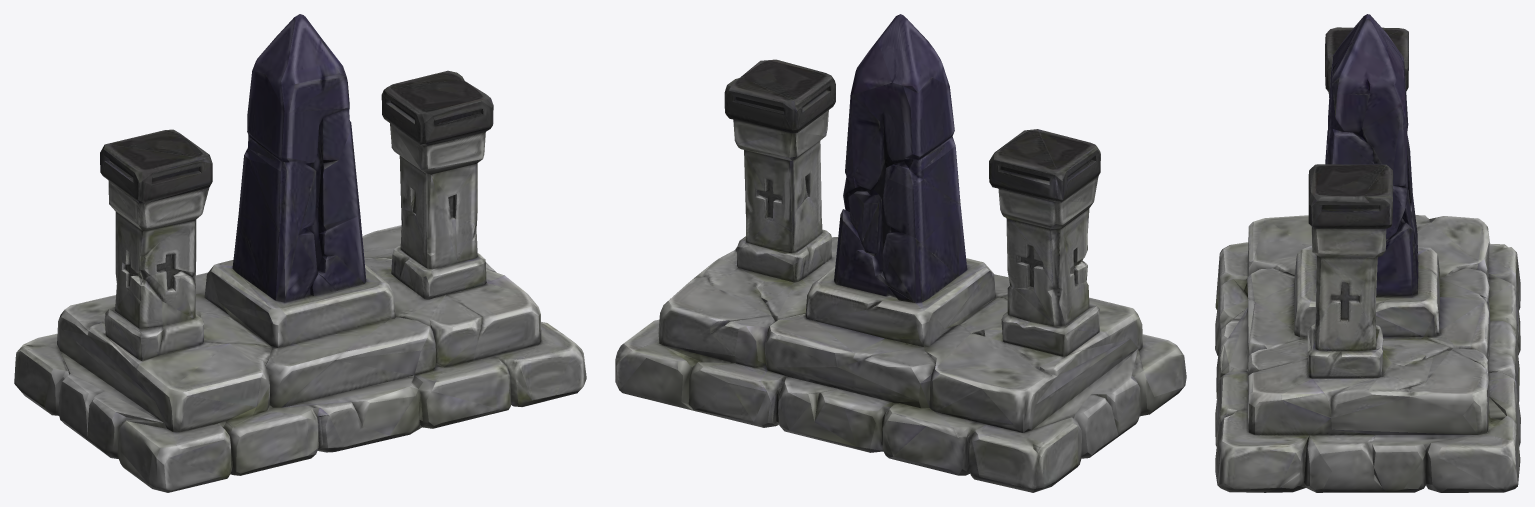
Rendered from shrine_3d.glb.
3 views of the same model, side by side, from view 1: azimuth 30°, elevation 25°; view 2: azimuth 150°, elevation 25°; view 3: azimuth 270°, elevation 25° (orthographic).
Parts seen in each view (by area): view 1: Mesh_0; view 2: Mesh_0; view 3: Mesh_0.
Part boxes in pixels (<box>): Mesh_0: <box>14,14,586,492</box>; Mesh_0: <box>615,14,1186,492</box>; Mesh_0: <box>1215,14,1520,492</box>.
Bounding box in the file's own units: 1.74 × 1.44 × 1.06.
Materials: 1 (1 with a texture image).
